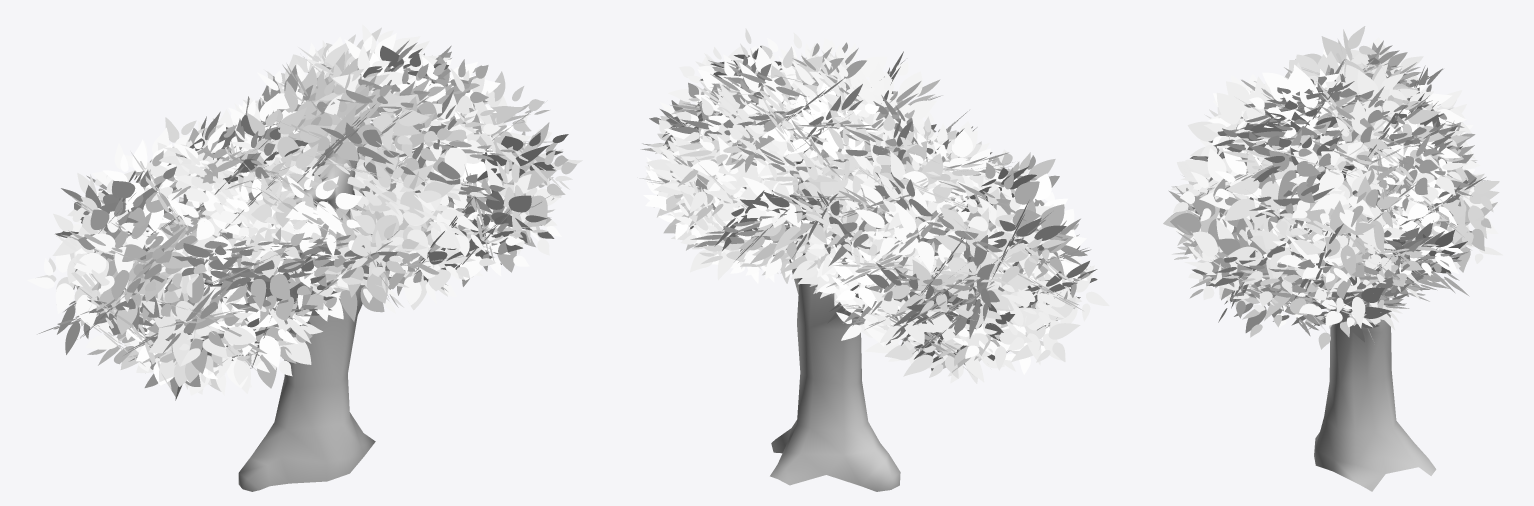
File: arbol low final.fbx
The picture shows the model from 3 angles, left to right: view 1: azimuth 30°, elevation 25°; view 2: azimuth 150°, elevation 25°; view 3: azimuth 270°, elevation 25°; orthographic projection. The views are drawn at different scales.
Parts seen in each view (by area): view 1: Textura hojas.002, 4; view 2: Textura hojas.002, 4; view 3: Textura hojas.002, 4.
Boxes of the visible parts, x1,y1,x2,y2 form: Textura hojas.002: (27,24,582,400); 4: (204,146,477,491); Textura hojas.002: (637,28,1109,383); 4: (770,159,909,491); Textura hojas.002: (1163,26,1502,349); 4: (1314,160,1436,491).
Size of the model in its own units: 615 by 490 by 386.
